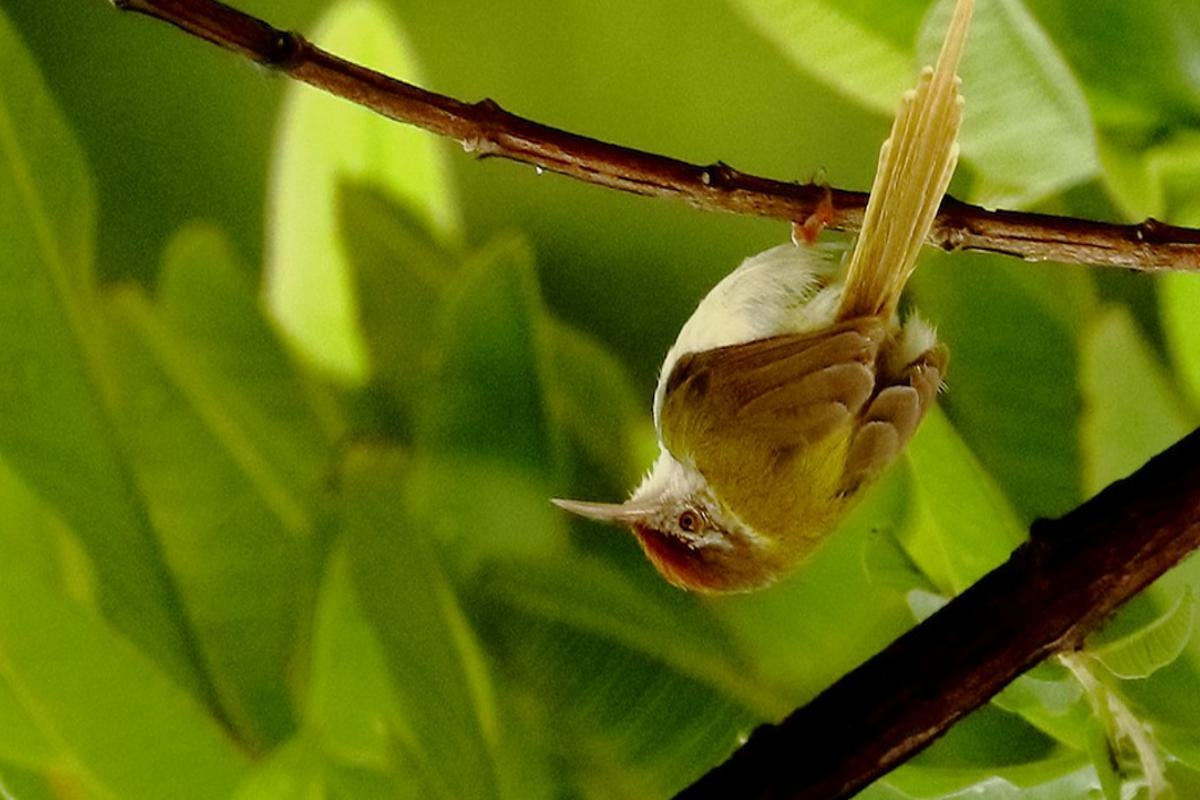tailorbird: (561, 125, 994, 594)
